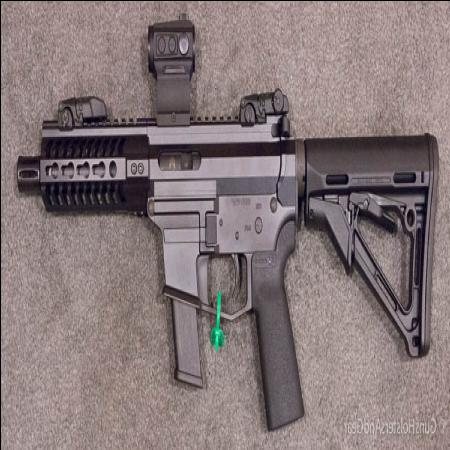Pistol: (15, 82, 310, 426)
